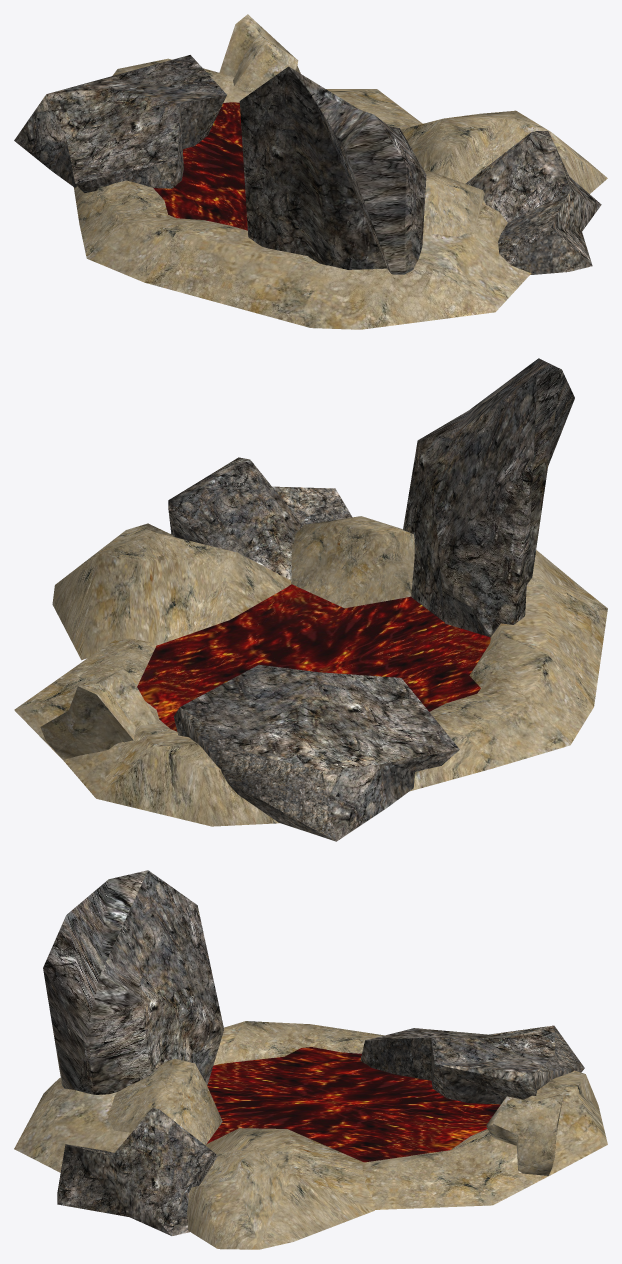
Rendered from pir_m_prp_cav_pool_lavaB.fbx.
The picture shows the model from 3 angles, top to bottom: view 1: azimuth 30°, elevation 25°; view 2: azimuth 150°, elevation 25°; view 3: azimuth 270°, elevation 25°; orthographic projection. The views are drawn at different scales.
Parts seen in each view (by area): view 1: standardFourWay_floor5, Rock_68, Rock_57, Rock_48, Rock_71, pCylinder3, Rock_49, Rock_58; view 2: standardFourWay_floor5, Rock_57, Rock_68, pCylinder3, Rock_71, Rock_48, Rock_58, Rock_49; view 3: Rock_68, standardFourWay_floor5, pCylinder3, Rock_71, Rock_48, Rock_57, Rock_58, Rock_49.
Boxes of the visible parts, x1,y1,x2,y2 form: standardFourWay_floor5: [73, 58, 531, 329]; Rock_68: [239, 66, 426, 274]; Rock_57: [14, 55, 226, 193]; Rock_48: [465, 131, 601, 274]; Rock_71: [401, 110, 607, 193]; pCylinder3: [153, 102, 247, 230]; Rock_49: [219, 14, 300, 87]; Rock_58: [423, 171, 484, 236]; standardFourWay_floor5: [14, 550, 607, 826]; Rock_57: [173, 664, 459, 841]; Rock_68: [403, 358, 574, 637]; pCylinder3: [137, 584, 490, 731]; Rock_71: [52, 523, 291, 660]; Rock_48: [168, 457, 352, 583]; Rock_58: [291, 516, 414, 608]; Rock_49: [40, 669, 157, 759]; Rock_68: [43, 870, 223, 1094]; standardFourWay_floor5: [14, 1021, 607, 1209]; pCylinder3: [207, 1047, 500, 1162]; Rock_71: [187, 1128, 374, 1249]; Rock_48: [57, 1108, 217, 1235]; Rock_57: [360, 1025, 584, 1104]; Rock_58: [107, 1059, 222, 1144]; Rock_49: [486, 1094, 563, 1175].
Bounding box in the file's own units: 3943 × 1828 × 4516.
3 materials, 3 textured.
